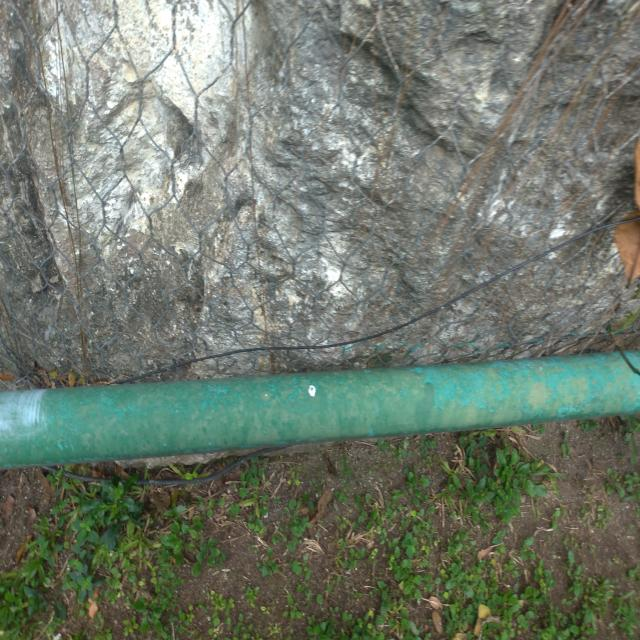gas: (11, 348, 637, 468)
